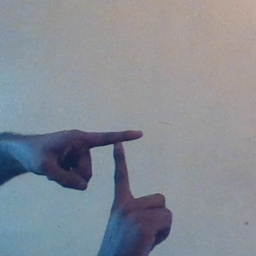T: (62, 116, 168, 215)
